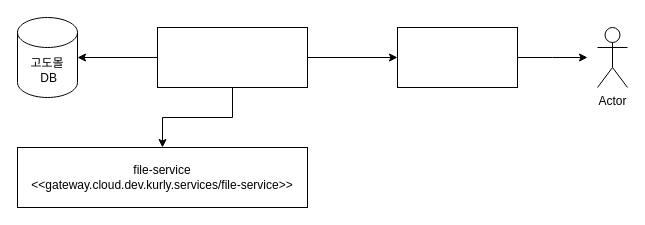
This 645x225 diagram has some shape labels left out. The centre of each missing label's shape, as x and y in pixels:
"LaCMS" goes at (457,57).
"review-backoffice-api" goes at (232,57).
